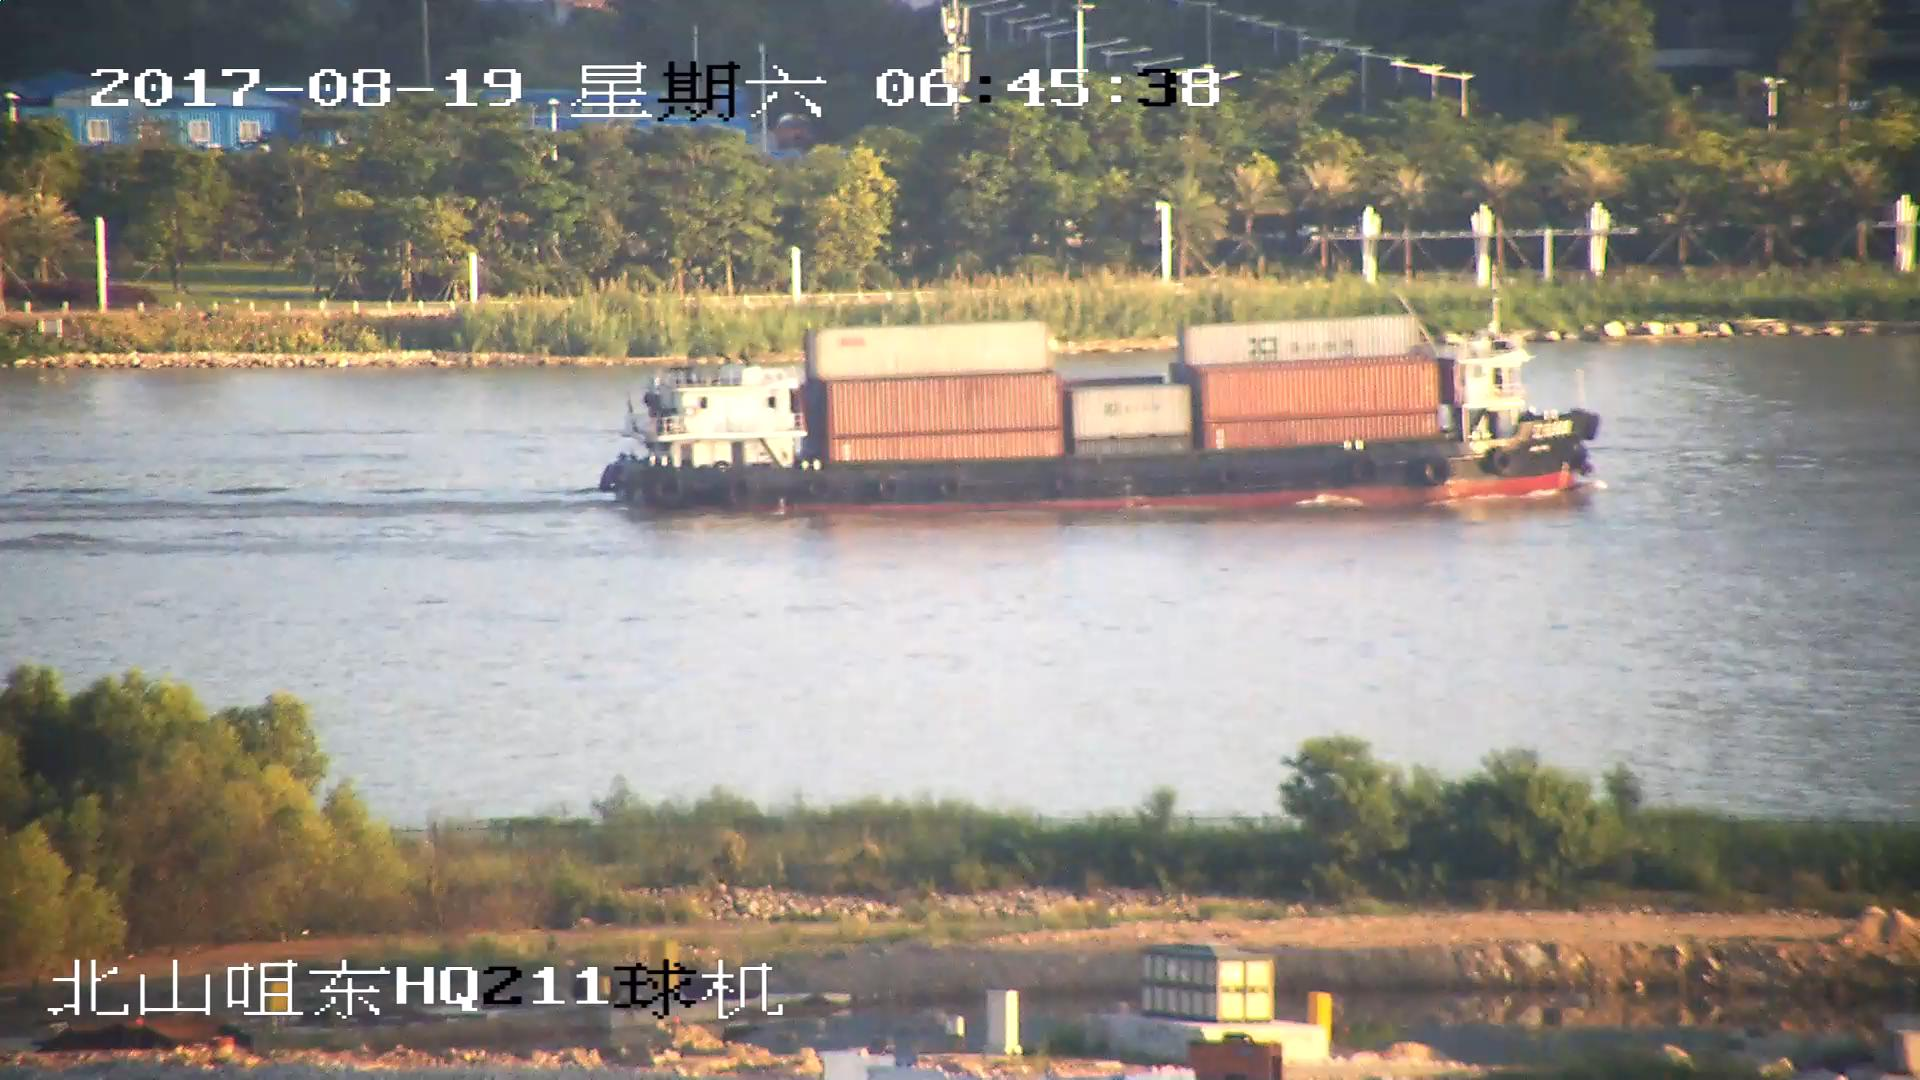container ship: (601, 301, 1595, 518)
